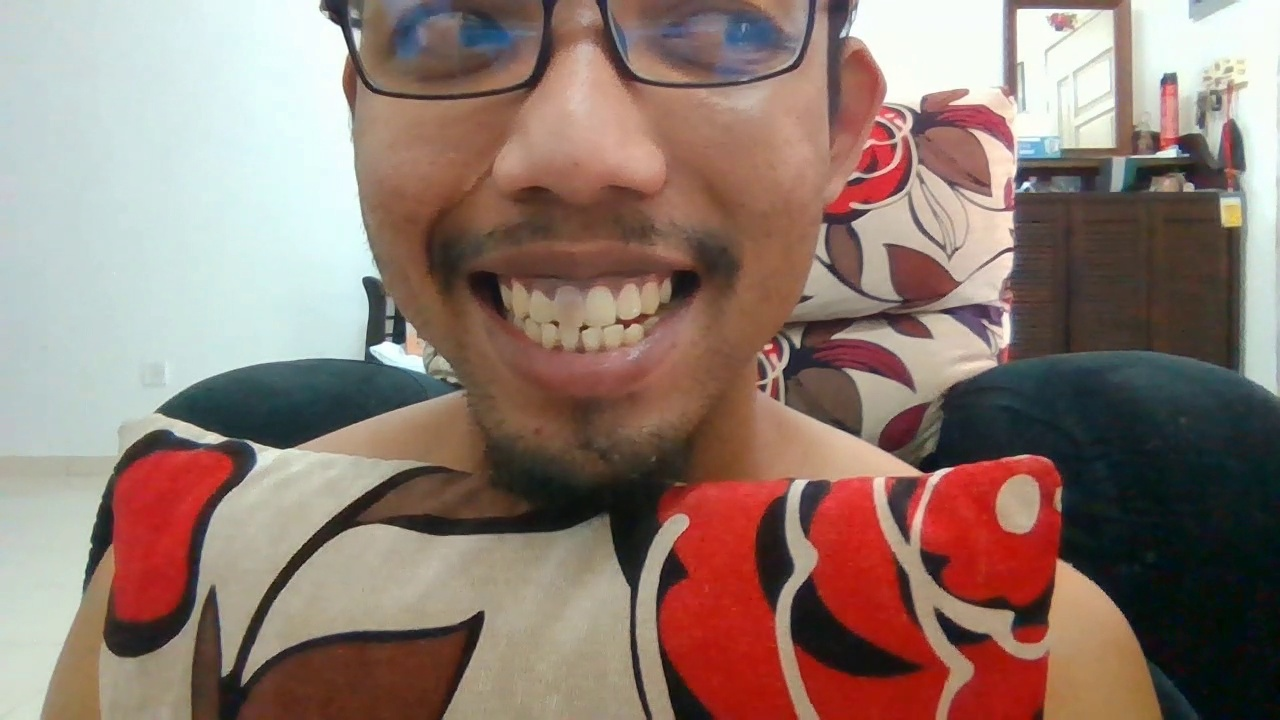1st Premolar: (499, 278, 510, 310), (662, 274, 673, 304), (646, 316, 664, 330), (510, 315, 525, 330)
Canine: (641, 277, 661, 315), (510, 277, 529, 315), (626, 324, 644, 349), (523, 321, 542, 342)
Central Incisor: (583, 285, 617, 326), (552, 285, 583, 324), (558, 324, 581, 352), (582, 328, 603, 352)
Lateral Incisor: (619, 281, 641, 320), (529, 285, 552, 321), (603, 322, 625, 352), (541, 322, 557, 350)
